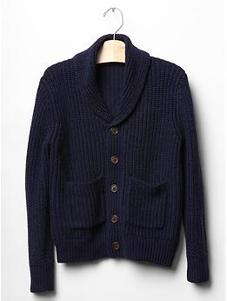C_cardigan sweater: (21, 36, 213, 294)
